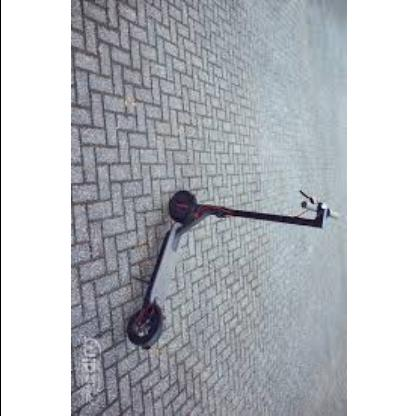bike: (126, 189, 333, 350)
